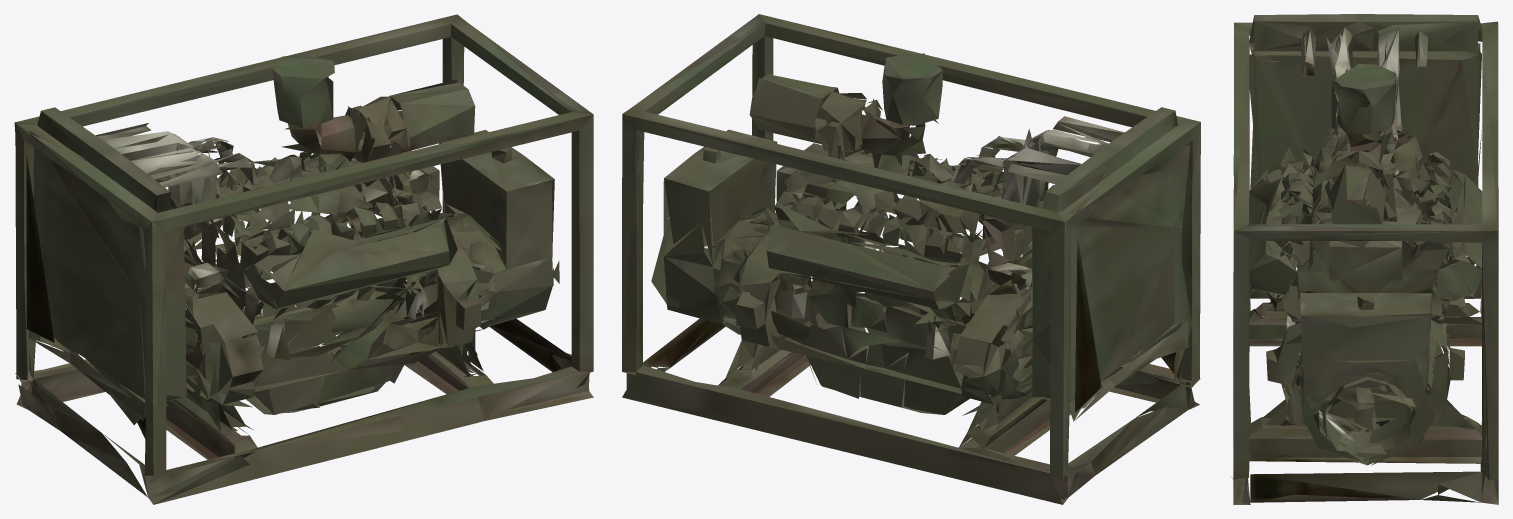
The model's file is generator.glb.
3 views of the same model, side by side, from view 1: azimuth 30°, elevation 25°; view 2: azimuth 150°, elevation 25°; view 3: azimuth 270°, elevation 25° (orthographic). The views are drawn at different scales.
Parts seen in each view (by area): view 1: Mesh_0; view 2: Mesh_0; view 3: Mesh_0.
Part boxes in pixels (<box>): Mesh_0: <box>14,14,593,504</box>; Mesh_0: <box>622,14,1200,504</box>; Mesh_0: <box>1231,14,1498,504</box>.
Bounding box in the file's own units: 1.95 × 1.36 × 1.02.
Materials: 1 (1 with a texture image).
